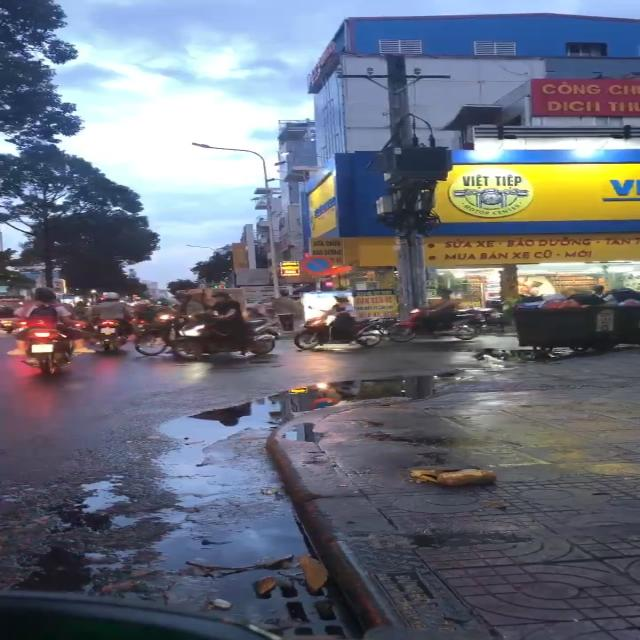Bien bao cam do xe: (296, 254, 341, 276)
